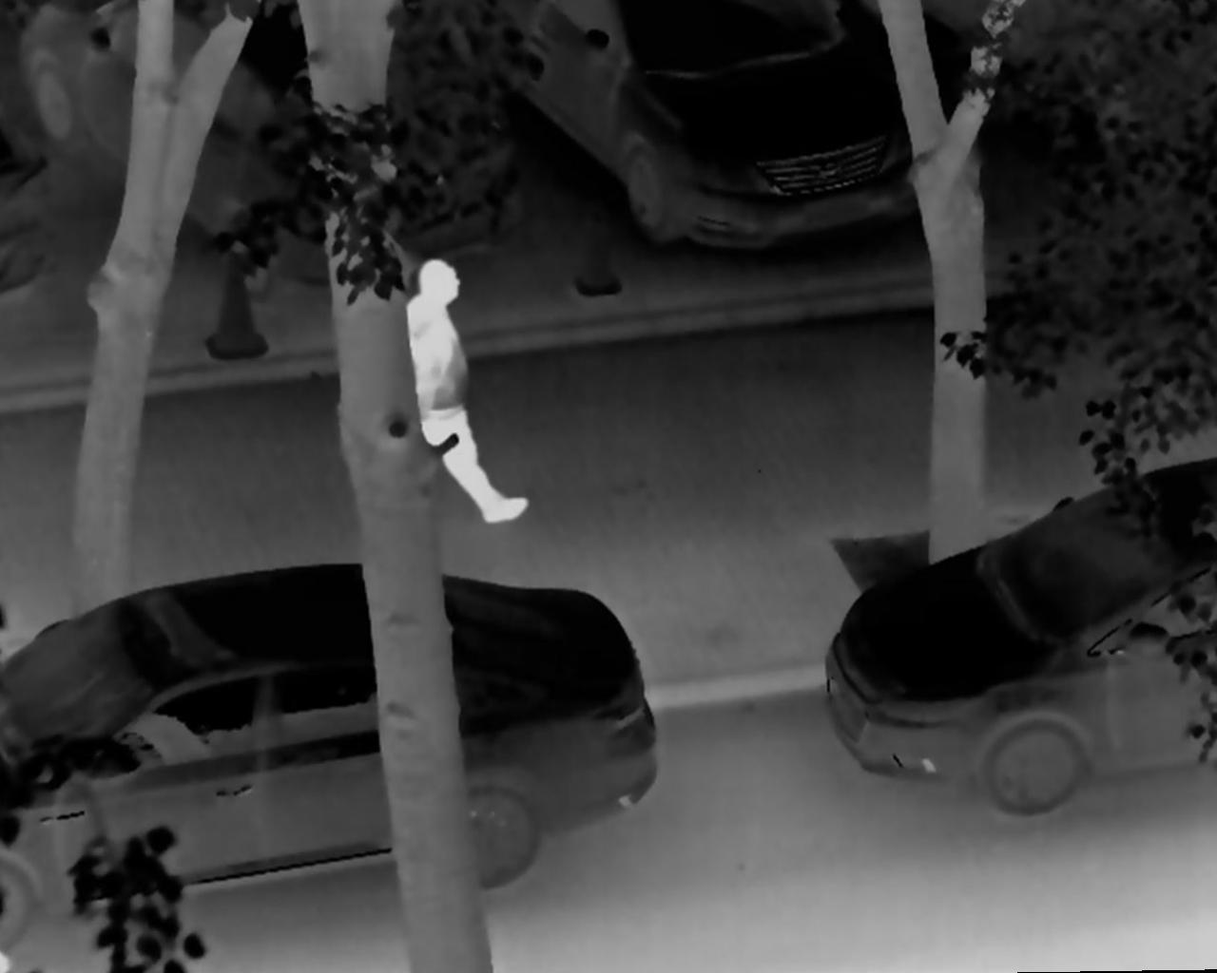person: (400, 256, 530, 528)
